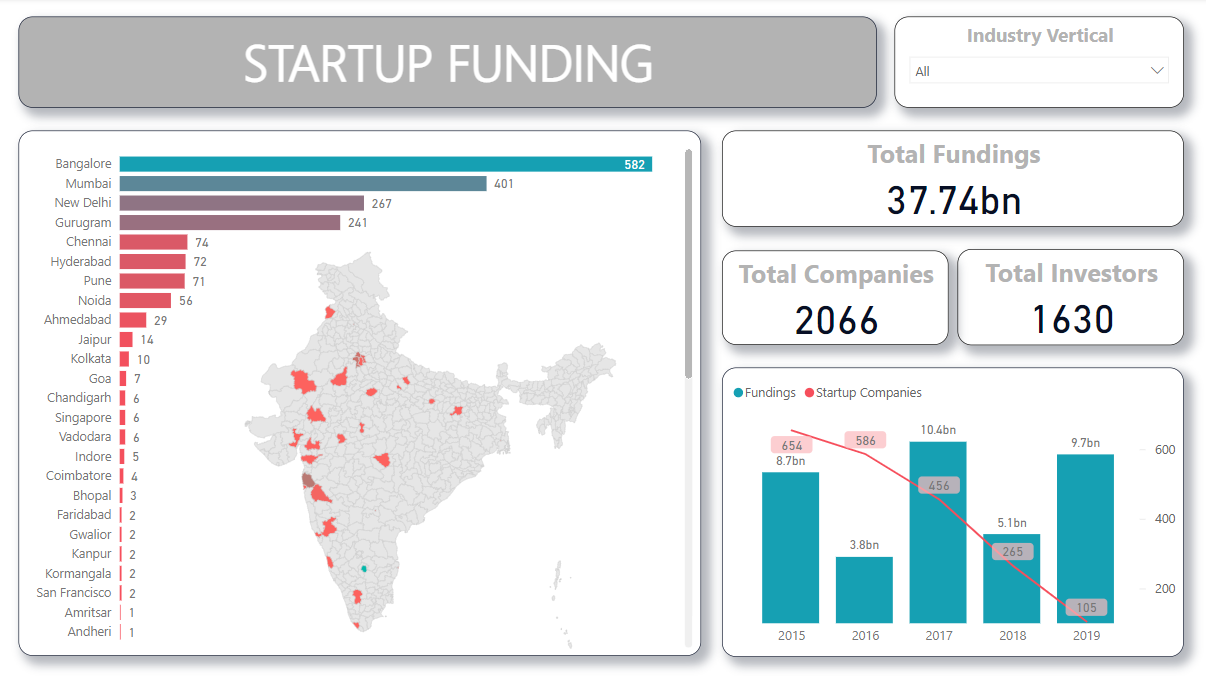

This screenshot's page, from the dashboard's own definition file:
{"tool":"powerbi","page":{"name":"Page 1","canvas":[1280,720],"ordinal":0},"visuals":[{"type":"textbox","box":[20.7,20.7,909.1,97],"z":0},{"type":"clusteredBarChart","fields":{"Category":["STARTUP_FUNDING.CITY_LOCATION"],"Y":["CountNonNull(STARTUP_FUNDING.SR_NO)"]},"box":[20.8,142,723.3,556.7],"z":1000},{"type":"shapeMap","fields":{"Category":["STARTUP_FUNDING.CITY_LOCATION"],"Value":["Sum(STARTUP_FUNDING.AMOUNT_IN_USD)"]},"box":[170.4,242.4,573.7,477.2],"z":2000},{"type":"card","title":"Total Companies","fields":{"Values":["CountNonNull(STARTUP_FUNDING.SR_NO)"]},"box":[766.1,268.6,240,100.1],"z":3000},{"type":"card","title":"Total Fundings","fields":{"Values":["Sum(STARTUP_FUNDING.AMOUNT_IN_USD)"]},"box":[766.1,141.5,489.5,101.7],"z":4000},{"type":"card","title":"Total Investors","fields":{"Values":["Count(STARTUP_FUNDING.INVESTORS_NAME)"]},"box":[1015.6,267,240,101.7],"z":5000},{"type":"slicer","title":"Industry Vertical","fields":{"Values":["STARTUP_FUNDING.INDUSTRY_VERTICAL"]},"box":[948.9,20.7,306.8,97],"z":6000},{"type":"lineStackedColumnComboChart","fields":{"Category":["STARTUP_FUNDING.DATE.Variation.Date Hierarchy.Year","STARTUP_FUNDING.DATE.Variation.Date Hierarchy.Quarter","STARTUP_FUNDING.DATE.Variation.Date Hierarchy.Month","STARTUP_FUNDING.DATE.Variation.Date Hierarchy.Day"],"Y2":["Count(STARTUP_FUNDING.SR_NO)"],"Y":["Sum(STARTUP_FUNDING.AMOUNT_IN_USD)"]},"box":[766.1,392.6,489.5,306.8],"z":7000}]}

Visuals, with their boxes in screenshot pixels (x1, y1, x2, y2), scaled from the page's 1280x720 canvas onto the 1206x676 screenshot:
textbox: box=[20, 19, 876, 111]
clusteredBarChart - STARTUP_FUNDING.CITY_LOCATION x CountNonNull(STARTUP_FUNDING.SR_NO): box=[20, 133, 701, 656]
shapeMap - STARTUP_FUNDING.CITY_LOCATION x Sum(STARTUP_FUNDING.AMOUNT_IN_USD): box=[161, 228, 701, 675]
"Total Companies" card: box=[722, 252, 948, 346]
"Total Fundings" card: box=[722, 133, 1183, 228]
"Total Investors" card: box=[957, 251, 1183, 346]
"Industry Vertical" slicer: box=[894, 19, 1183, 111]
lineStackedColumnComboChart - STARTUP_FUNDING.DATE.Variation.Date Hierarchy.Year x STARTUP_FUNDING.DATE.Variation.Date Hierarchy.Quarter: box=[722, 369, 1183, 657]
